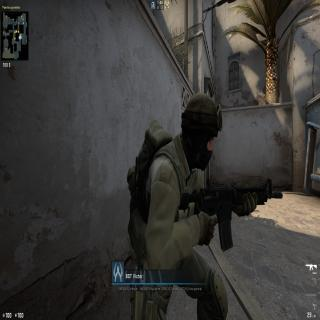CT-Head: (178, 90, 224, 174)
